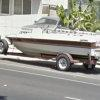Boat: (6, 18, 100, 75)
